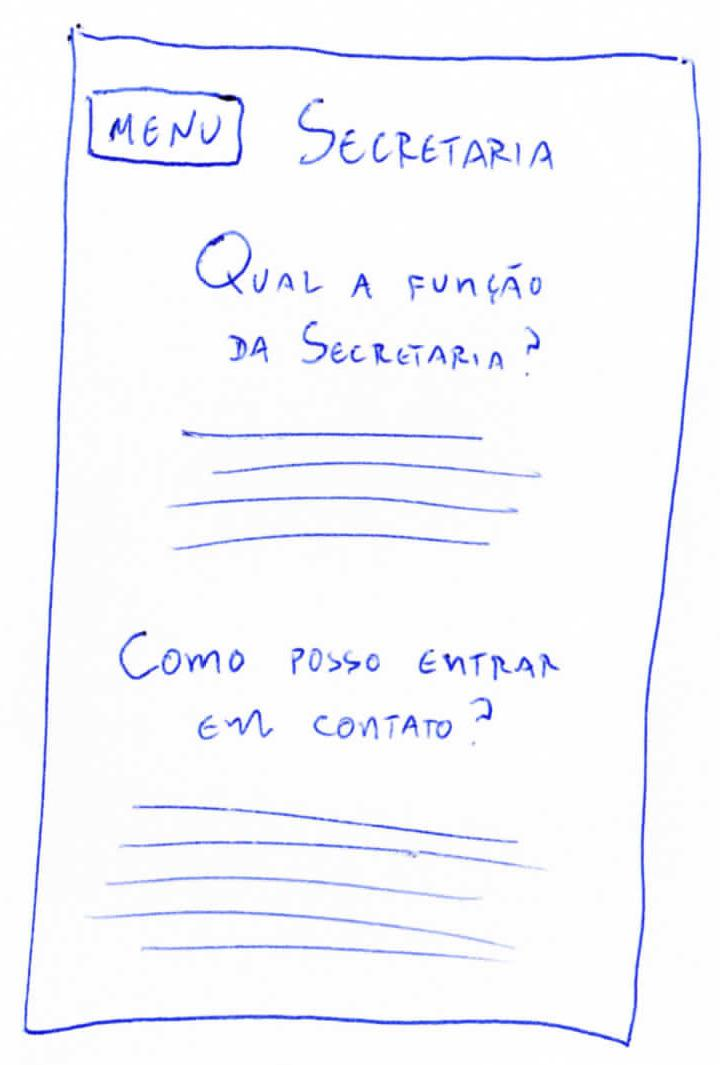Button: (87, 87, 243, 167)
Label: (91, 802, 547, 964), (114, 627, 564, 748), (193, 230, 542, 379), (163, 426, 541, 553), (297, 96, 553, 171)
Screen: (22, 27, 700, 1037)
